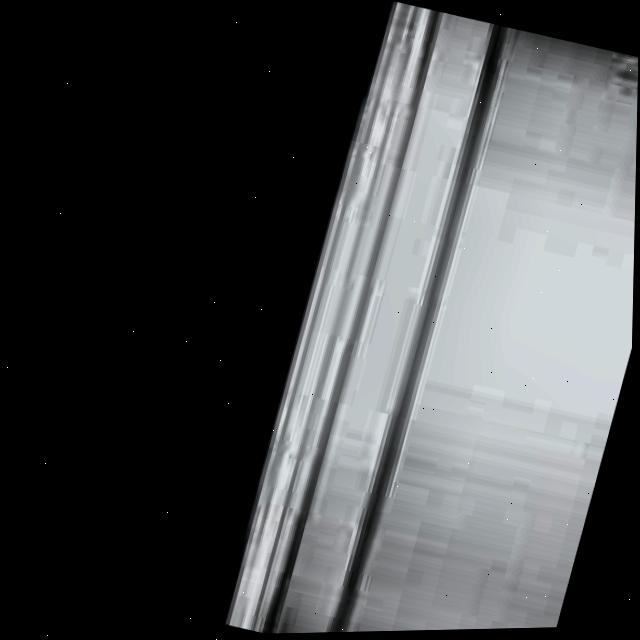paper: (218, 0, 640, 636)
